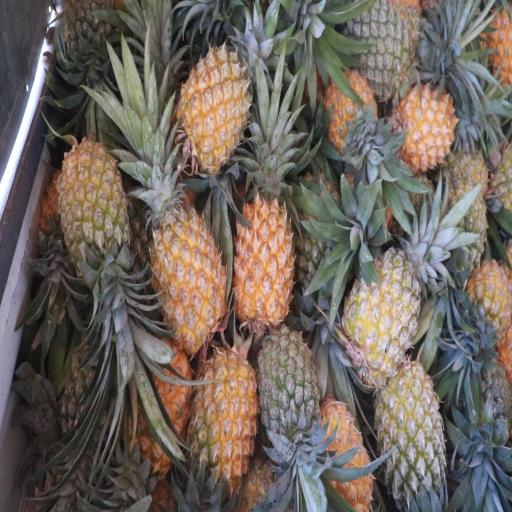------------------------------: (346, 253, 420, 383), (380, 370, 445, 508)
Pineapple - v8 v1: (153, 180, 229, 348), (60, 143, 127, 286), (179, 46, 253, 171), (196, 346, 262, 485), (234, 185, 295, 332), (134, 349, 196, 470), (323, 404, 377, 510), (323, 74, 380, 161), (401, 86, 459, 171), (466, 260, 511, 354)
